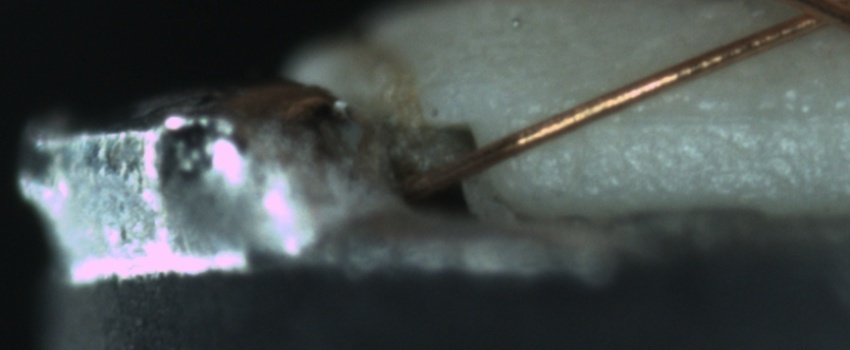CL: (774, 0, 847, 35)
DL: (561, 83, 848, 148)
